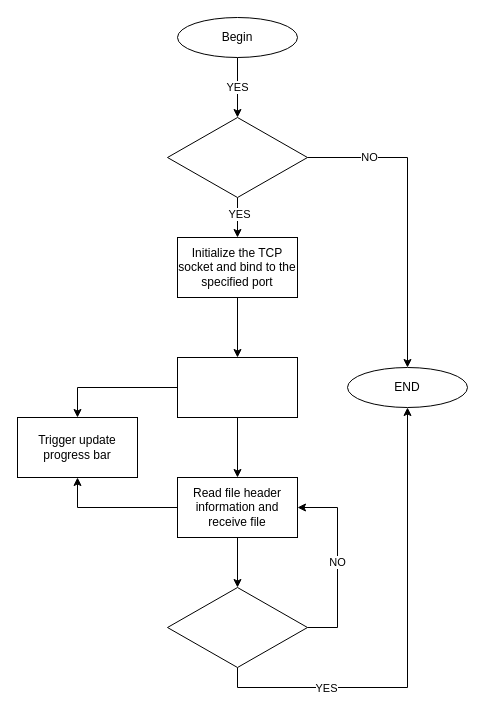
Image size: 485x713. Some labels were removed from this diagram. The box of each missing label's shape, as (x1, y1, x2, y2) in pixels:
Connect to the host: (176, 356, 298, 418)
Is it allowed to receive file?: (166, 116, 308, 198)
Is the file received?: (166, 586, 308, 668)
